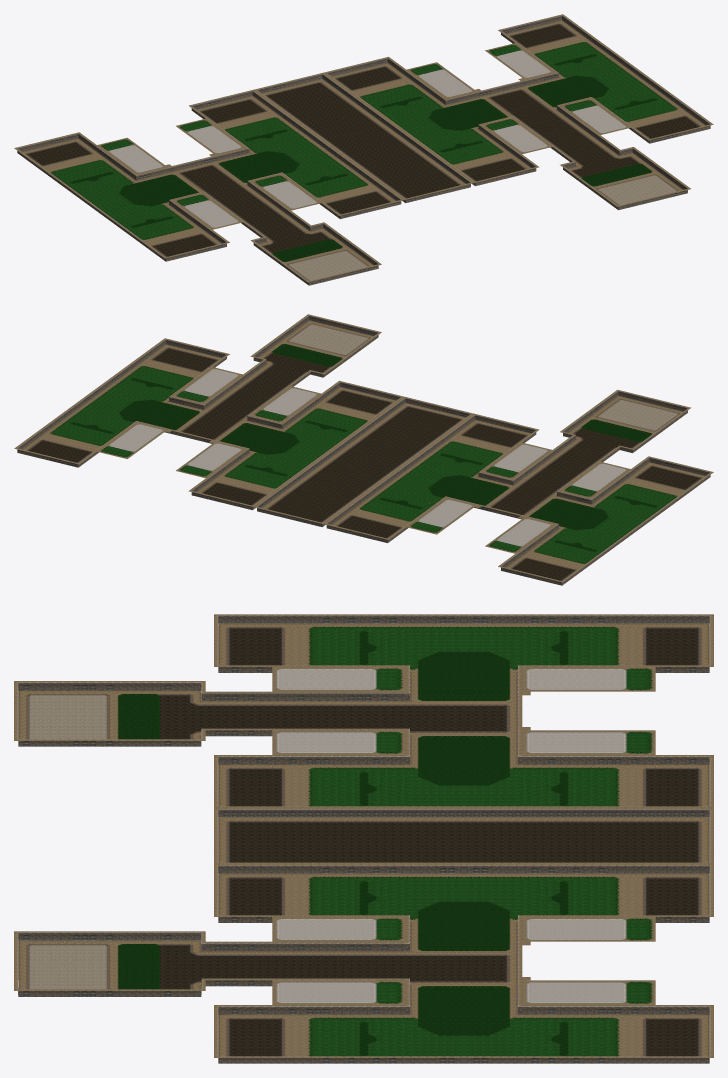
The model's file is Map4v4.FBX.
The picture shows the model from 3 angles, top to bottom: view 1: azimuth 30°, elevation 25°; view 2: azimuth 150°, elevation 25°; view 3: azimuth 270°, elevation 25°; orthographic projection. The views are drawn at different scales.
Visible parts, largest first — view 1: Plane3405; view 2: Plane3405; view 3: Plane3405.
Boxes of the visible parts, bbox=[...] form: Plane3405: bbox=[14, 14, 713, 285]; Plane3405: bbox=[14, 314, 713, 585]; Plane3405: bbox=[14, 614, 713, 1063].
Bounding box in the file's own units: 126 × 1 × 84.
